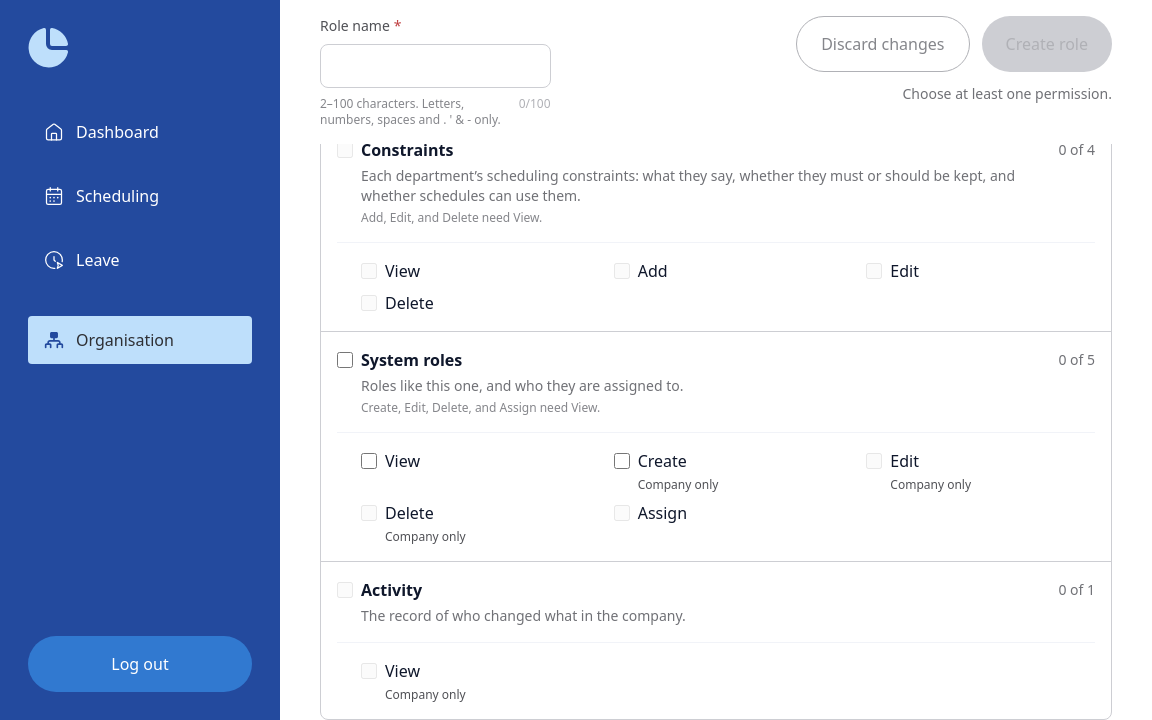
Test: Create system role › offers only the permissions the person holds at the company
(page scrolled)
Note: The row's select-all for what is held adds it with what it needs.
Click the checkbox labelled "System roles" at point(345, 360), box [337,352,353,368]
(page scrolled)
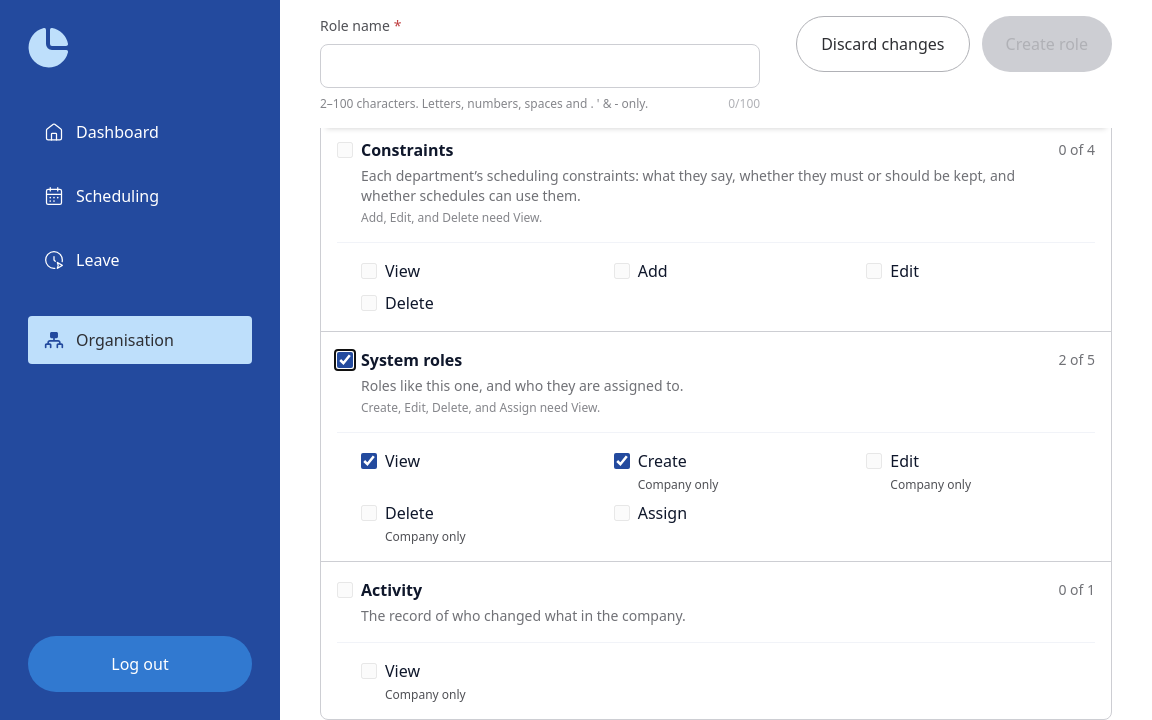
Check: the 2nd checkbox labelled "View" is checked, box [361,453,377,469]
Check: the checkbox labelled "Create" is checked, box [614,453,630,469]
